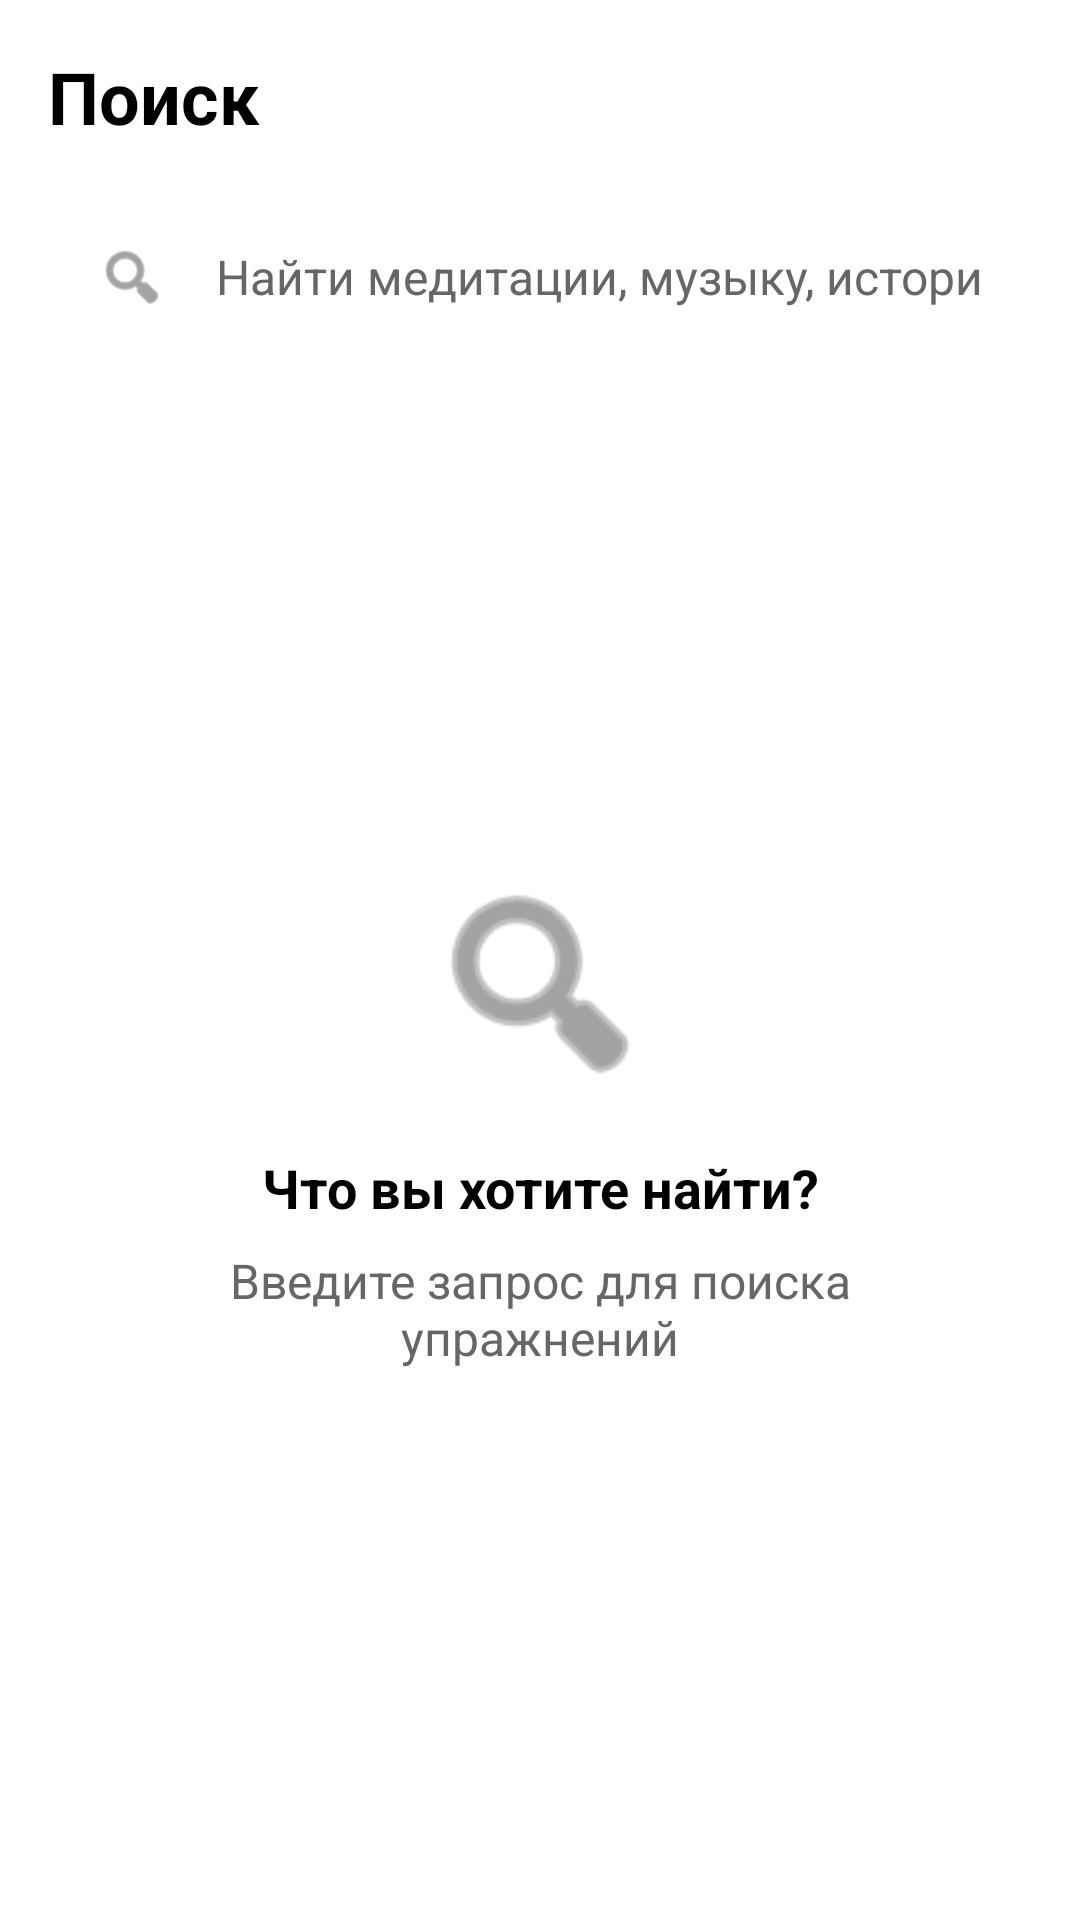

Screen size 1080px×1920px. Icon name, then its center in pixels as (x=x, y=y):
Search icon: (x=132, y=277)
